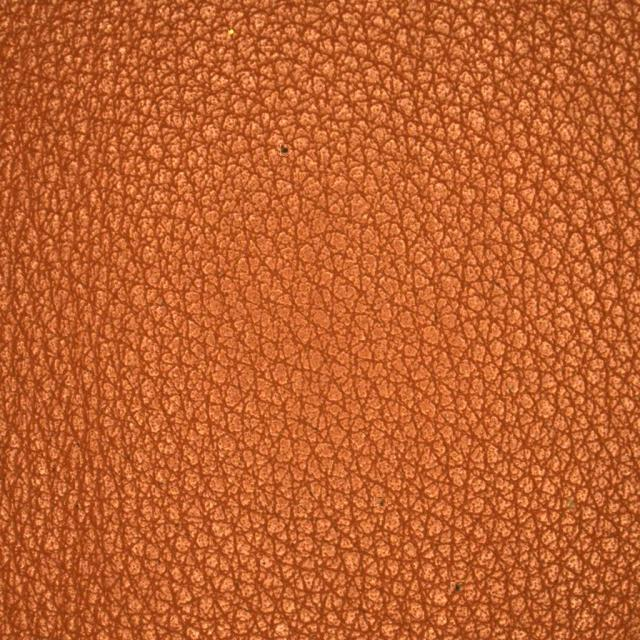pinhole: (192, 92, 383, 200)
